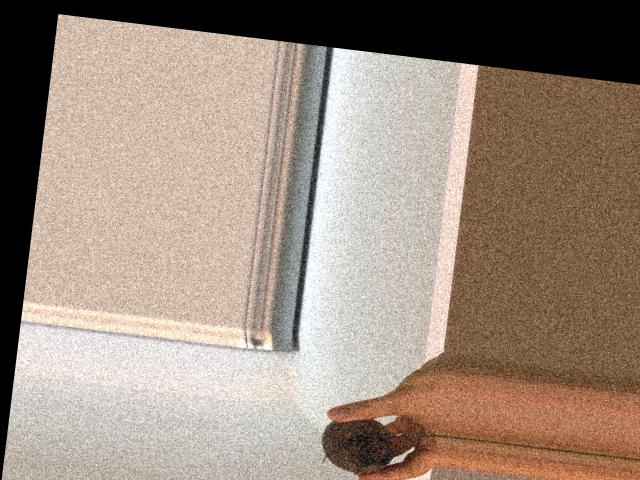beet: (317, 411, 440, 480)
